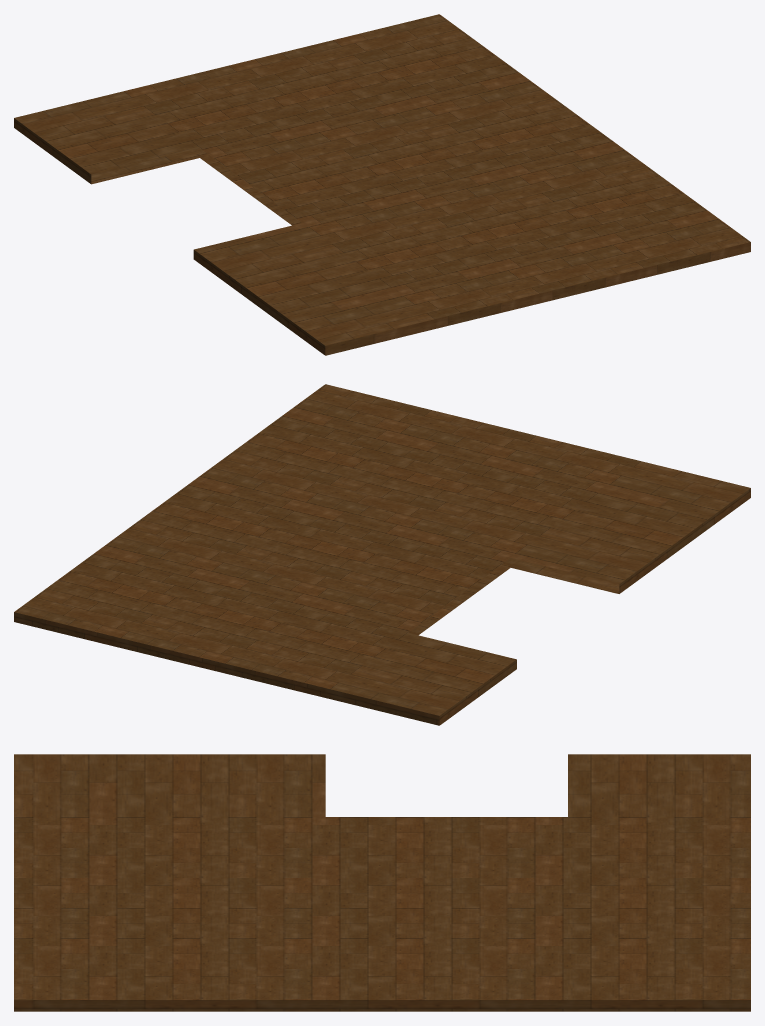
The model's file is AslanHouse_2ndFloor.fbx.
3 renders of one model, top to bottom at view 1: azimuth 30°, elevation 25°; view 2: azimuth 150°, elevation 25°; view 3: azimuth 270°, elevation 25°, orthographic. The views are drawn at different scales.
Parts seen in each view (by area): view 1: Plane.001; view 2: Plane.001; view 3: Plane.001.
Boxes of the visible parts, x1=… form: Plane.001: x1=14, y1=14, x2=750, y2=355; Plane.001: x1=14, y1=384, x2=750, y2=725; Plane.001: x1=14, y1=754, x2=750, y2=1011.
Bounding box in the file's own units: 764 × 16.96 × 969.
1 material, 1 textured.
